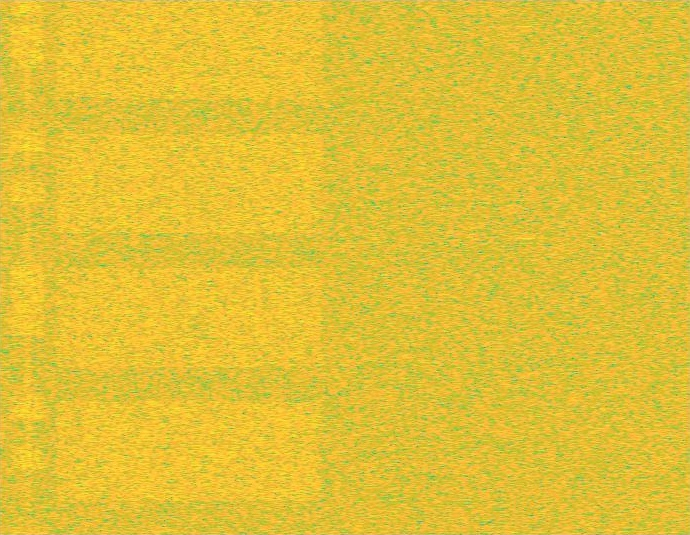5G: (51, 0, 327, 534)
DSSS: (24, 0, 32, 534)
LTE: (11, 0, 45, 534)
Radar: (519, 0, 533, 534)
